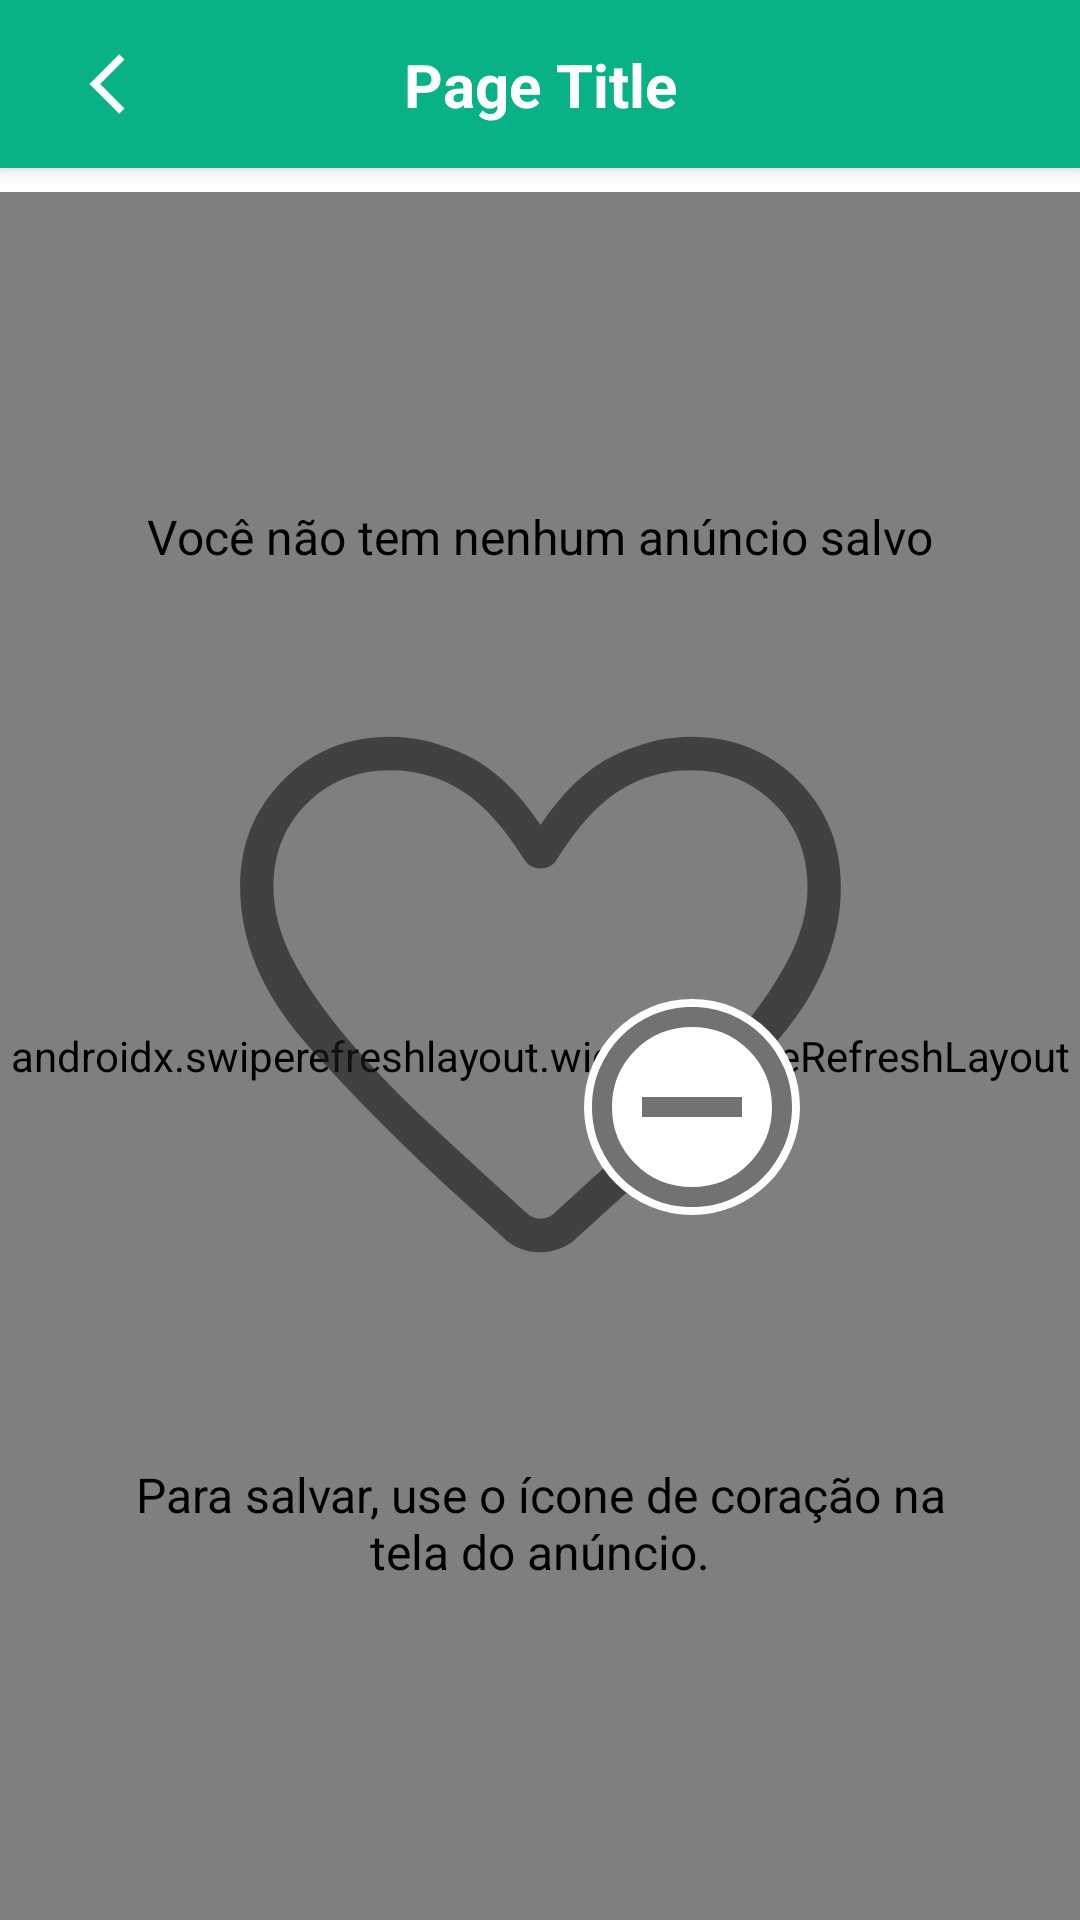

Locate icon controls on the screen. Image size 1080px×1920px, boxes as [x1=x1, y1=y1, x2=x2, y2=y2].
arrow back: [x1=89, y1=54, x2=125, y2=114]
